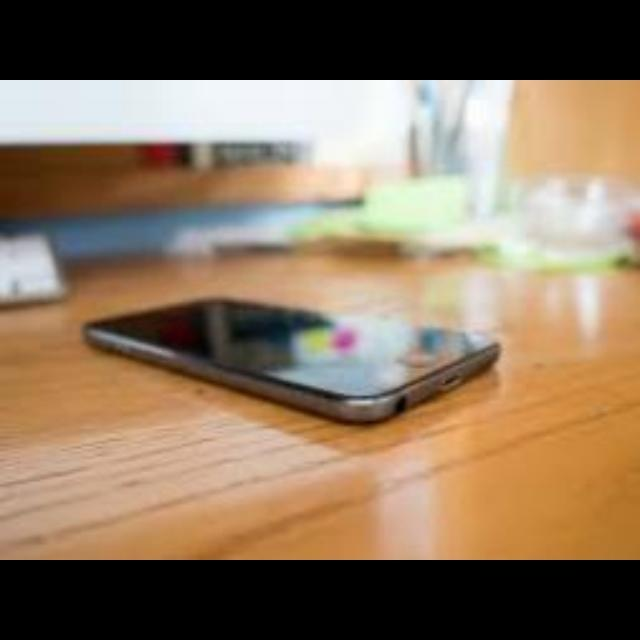Phone: (87, 296, 506, 426)
